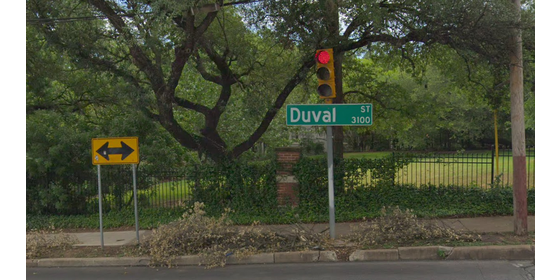street name sign: (284, 99, 379, 130)
